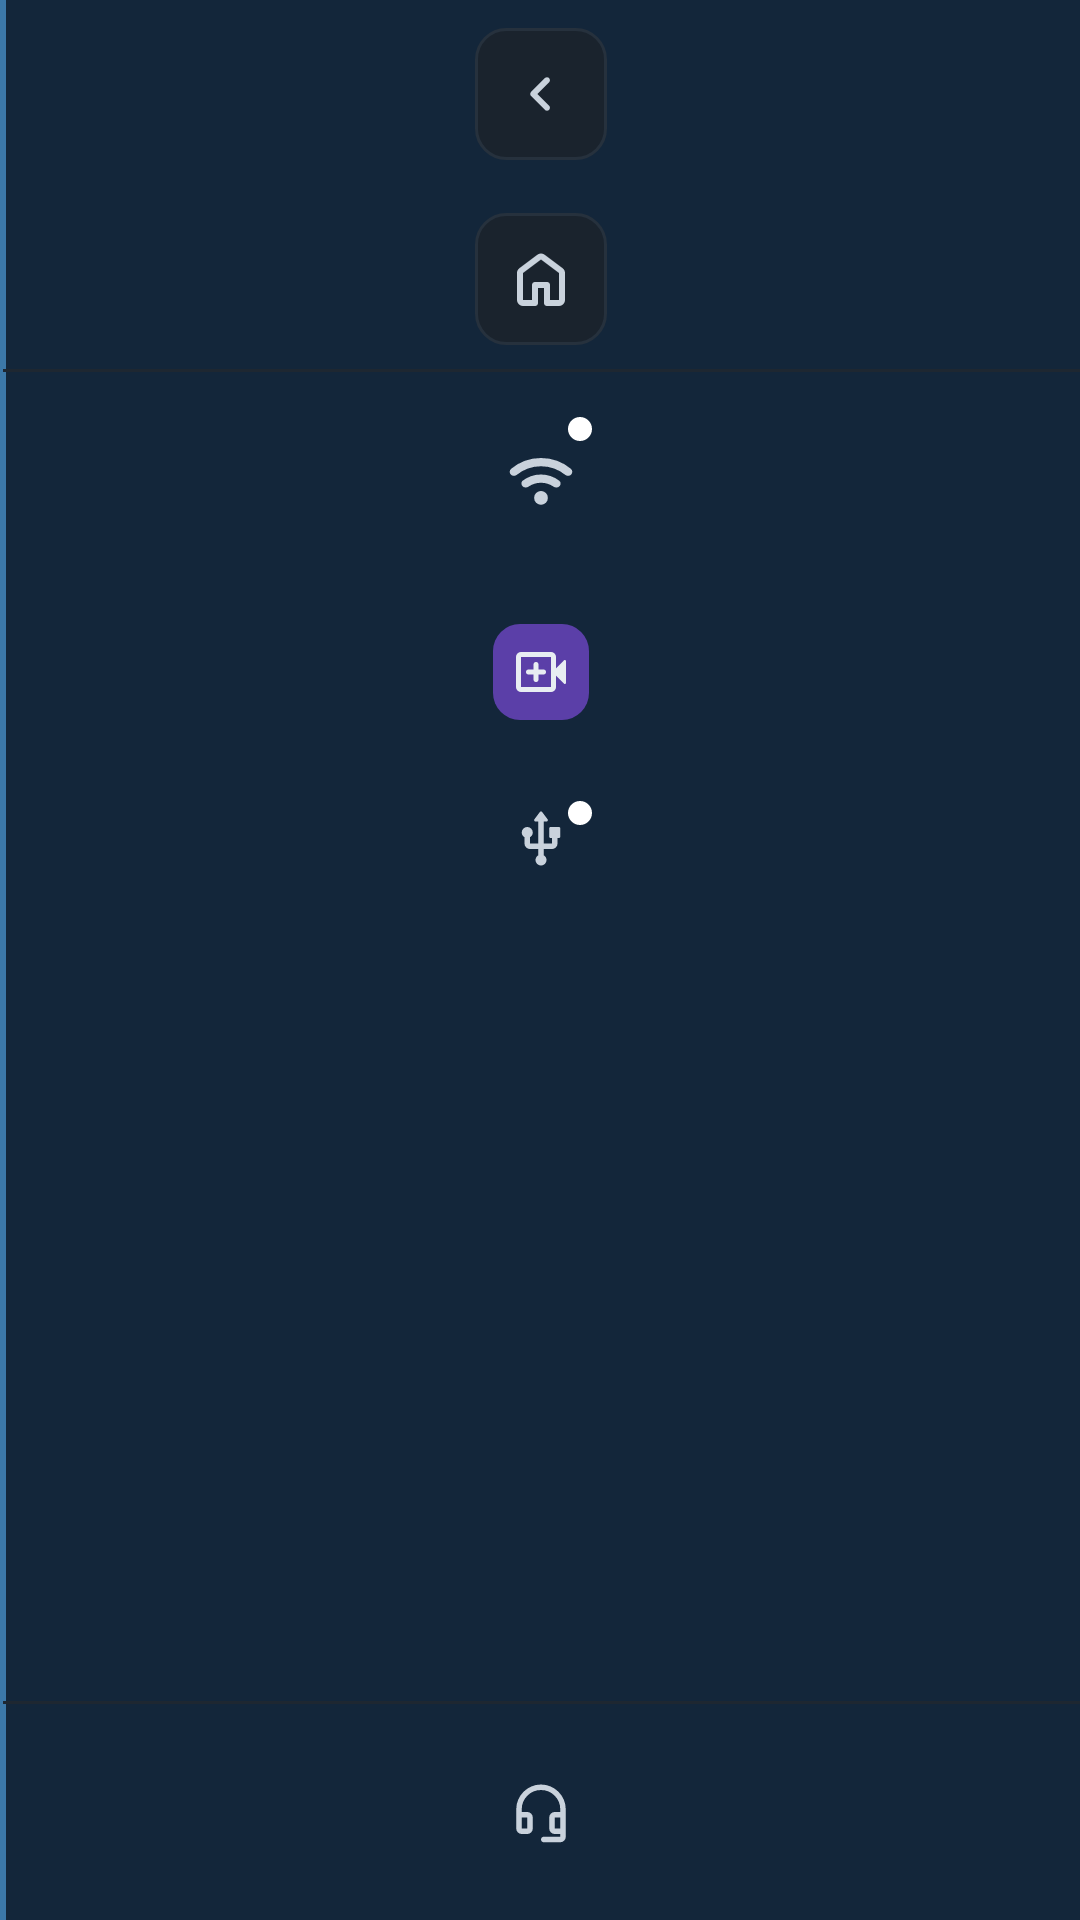

Point at icon controls on the screen. Image size 1080 x 1920, points as (x=x, y=y).
headset mic: (x=541, y=1813)
Ir al inicio: (x=541, y=279)
usb: (x=541, y=838)
video call: (x=541, y=672)
wifi: (x=541, y=481)
